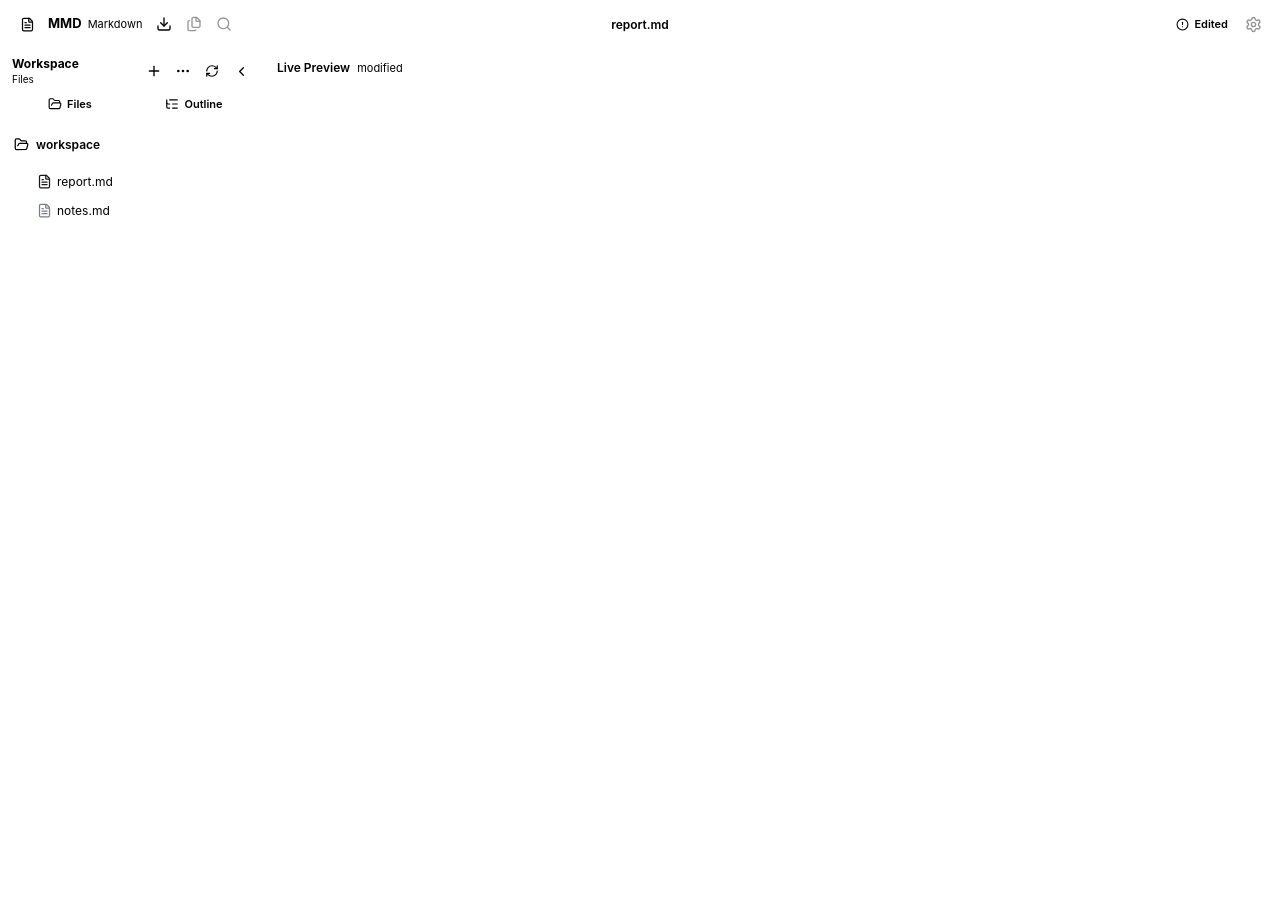
Test: App binary document composition › keeps the dirty document open when file switching is cancelled
The image size is (1280, 900).
Step 1. Click the list item "notes.md" → [73, 210], box [37, 202, 110, 218]
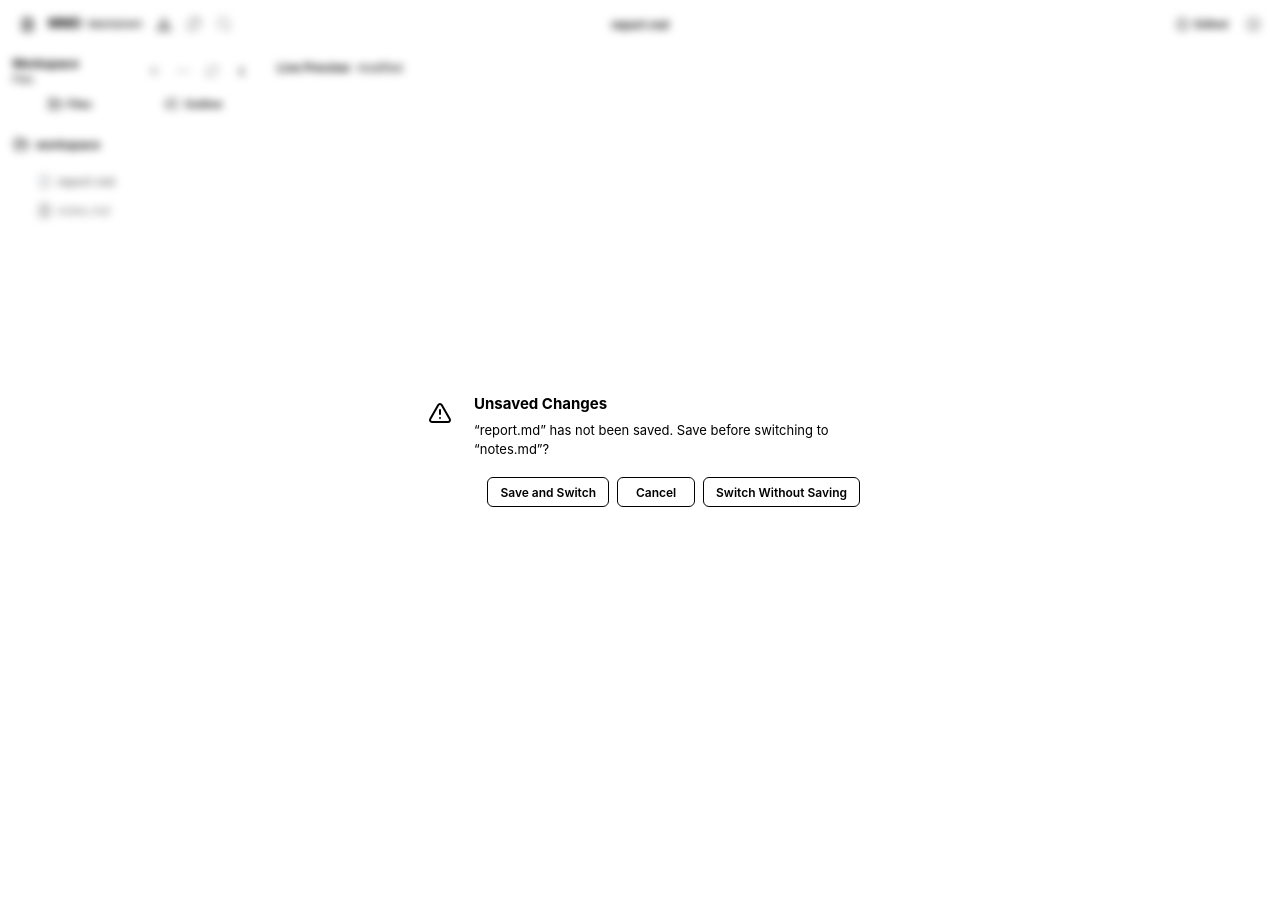
Step 2. Click the button "Cancel" → [656, 492], box [617, 477, 695, 507]
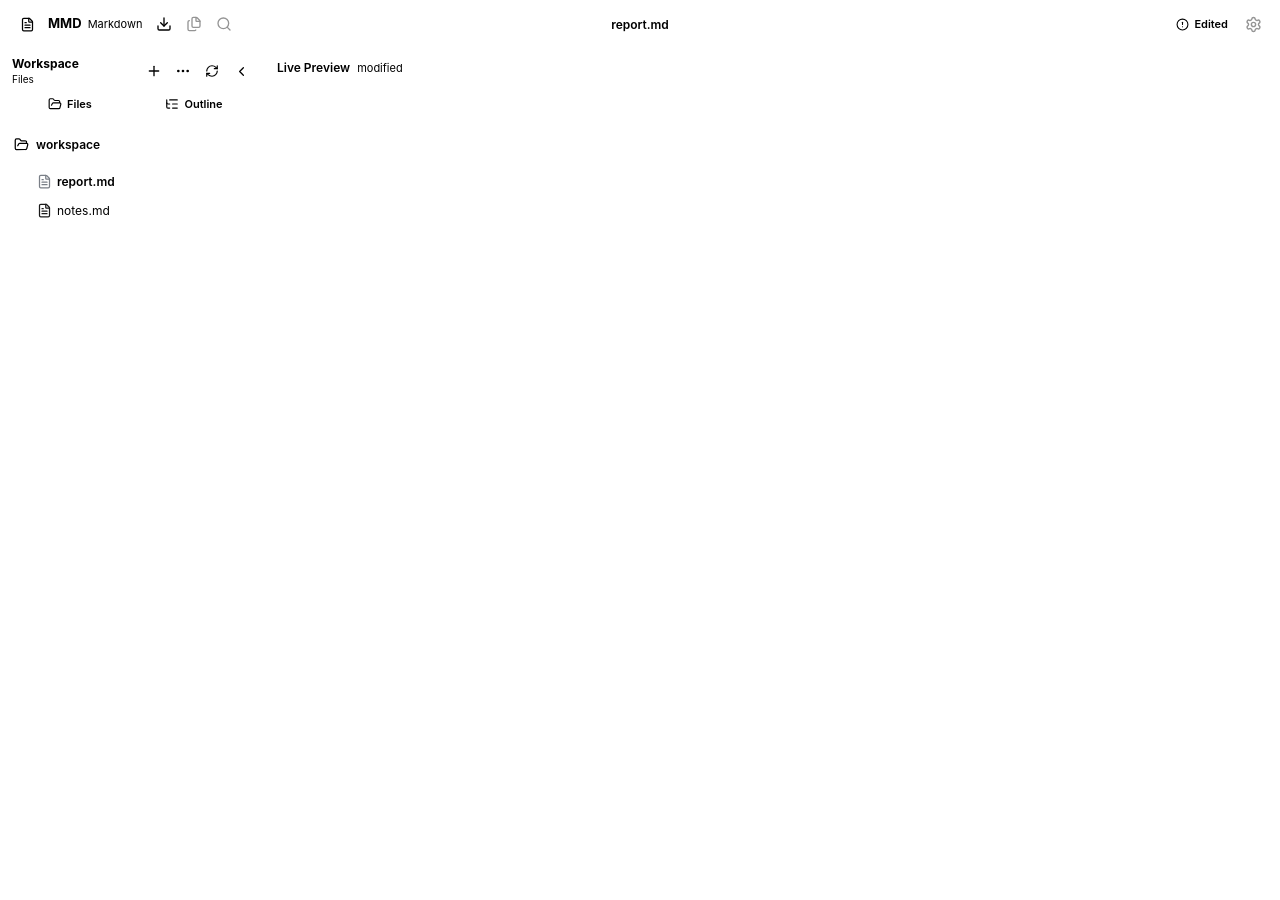
Check: the dialog with class "unsaved-dialog" is gone
